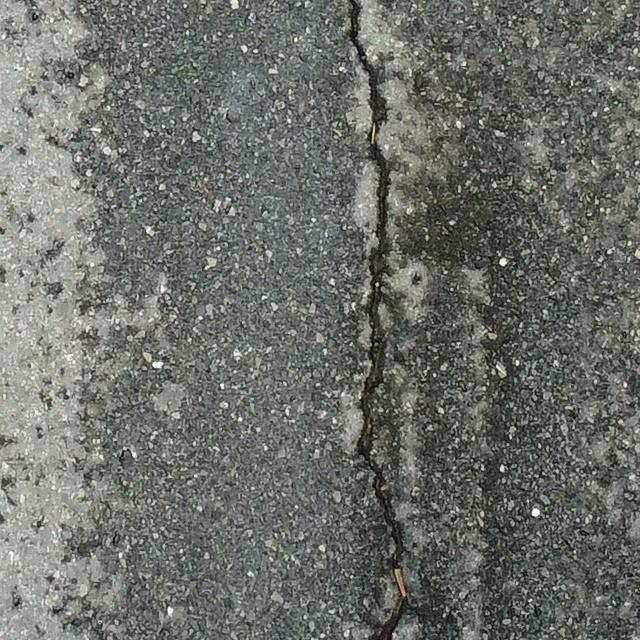LongitudinalCrack: (344, 1, 408, 640)
